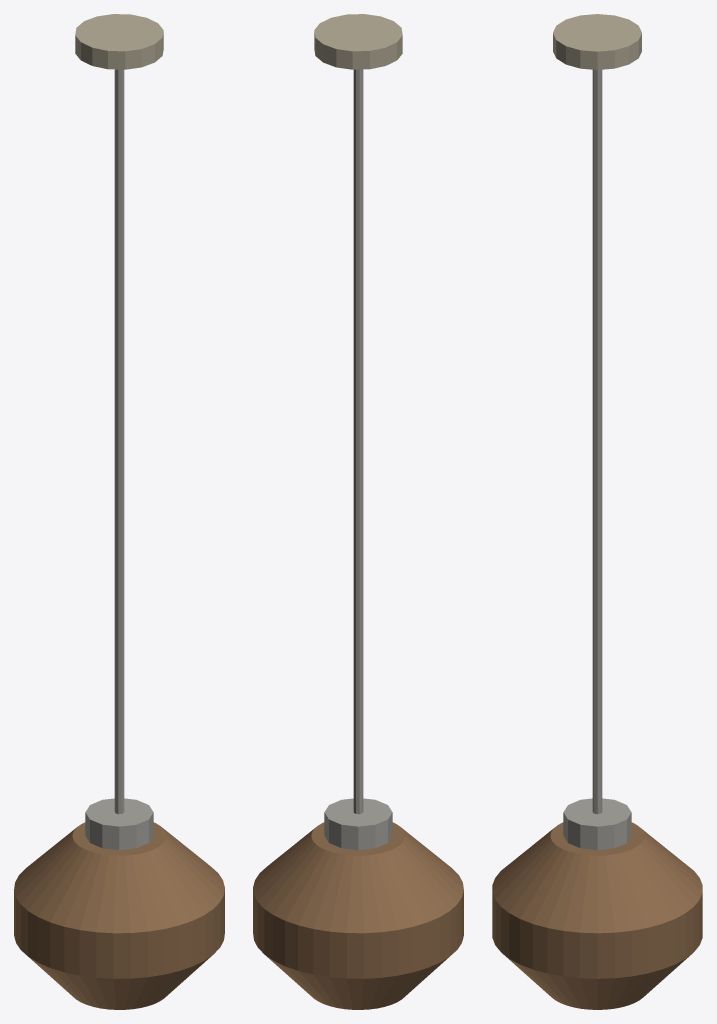
Rendered from ceiling-pendant-globe.glb.
3 views of the same model, side by side, from view 1: azimuth 30°, elevation 25°; view 2: azimuth 150°, elevation 25°; view 3: azimuth 270°, elevation 25° (orthographic).
Parts seen in each view (by area): view 1: shade, brushed, plastic-light; view 2: shade, brushed, plastic-light; view 3: shade, brushed, plastic-light.
Boxes of the visible parts, x1=… form: shade: x1=14, y1=822, x2=224, y2=1009; brushed: x1=85, y1=69, x2=153, y2=849; plastic-light: x1=75, y1=14, x2=163, y2=69; shade: x1=253, y1=822, x2=463, y2=1009; brushed: x1=324, y1=69, x2=392, y2=849; plastic-light: x1=314, y1=14, x2=402, y2=69; shade: x1=492, y1=822, x2=702, y2=1009; brushed: x1=563, y1=69, x2=631, y2=849; plastic-light: x1=553, y1=14, x2=641, y2=69.
Size of the model in its own units: 0.26 by 1.3 by 0.2591.
